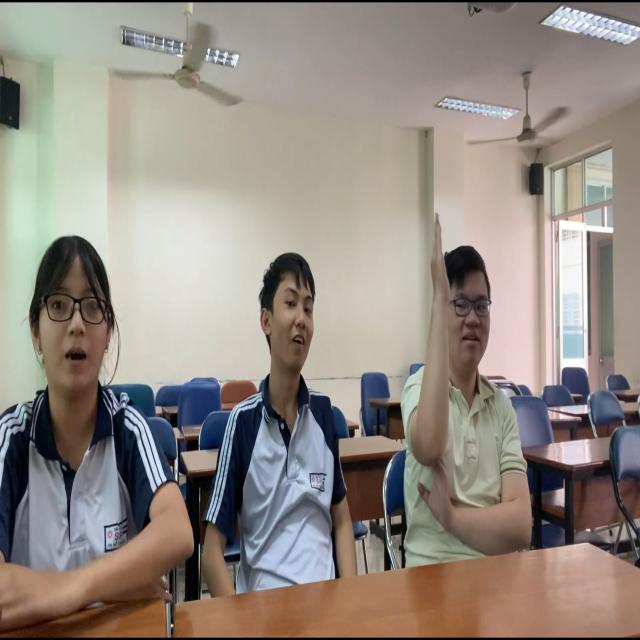raise_hand: (405, 200, 538, 563)
